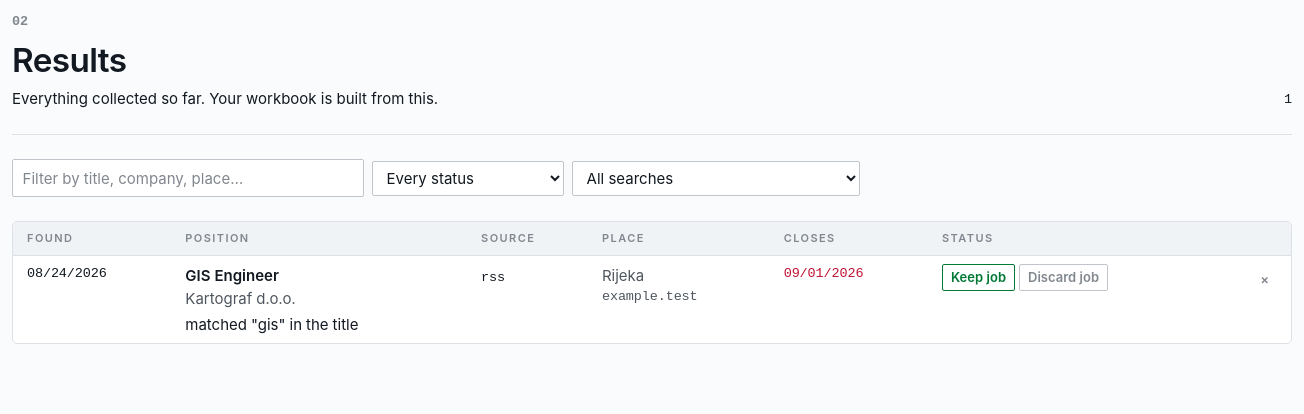
Test: the front page and the sifting › keeping a job answers the row without changing its status
This screenshot has width=1304, height=414.
Click the button "Keep job". click: (978, 278)
box: [942,264,1015,291]
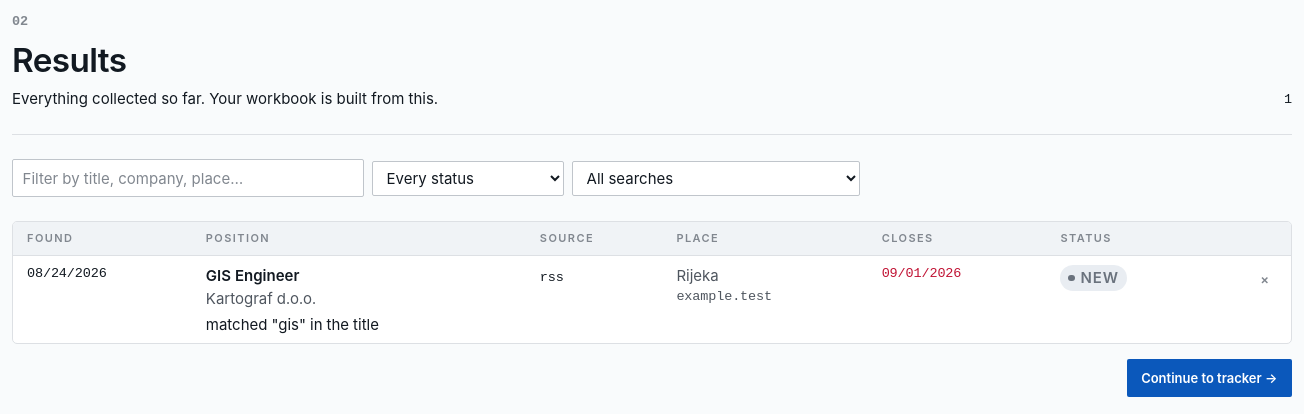
Now the button "Keep job" is gone
Now the button "Continue to tracker →" is shown, box [1126,359,1292,397]
